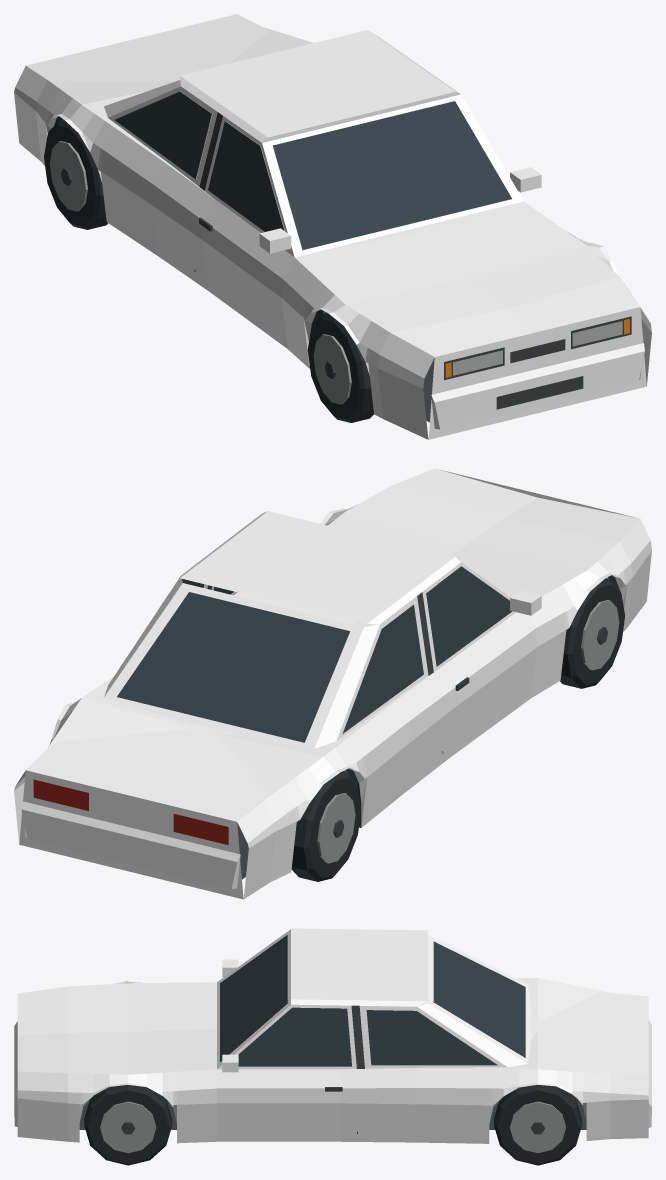
The model's file is kanaya_gunjo_96.glb.
3 views of the same model, one above another, from view 1: azimuth 30°, elevation 25°; view 2: azimuth 150°, elevation 25°; view 3: azimuth 270°, elevation 25° (orthographic). The views are drawn at different scales.
Parts seen in each view (by area): view 1: kanaya_gunjo_96; view 2: kanaya_gunjo_96; view 3: kanaya_gunjo_96.
Part boxes in pixels (left/top/right/bottom): kanaya_gunjo_96: left=14, top=14, right=651, bottom=439; kanaya_gunjo_96: left=14, top=468, right=651, bottom=899; kanaya_gunjo_96: left=14, top=928, right=651, bottom=1165.
Size of the model in its own units: 1.82 by 1.24 by 4.7.
8 materials, 1 textured.
